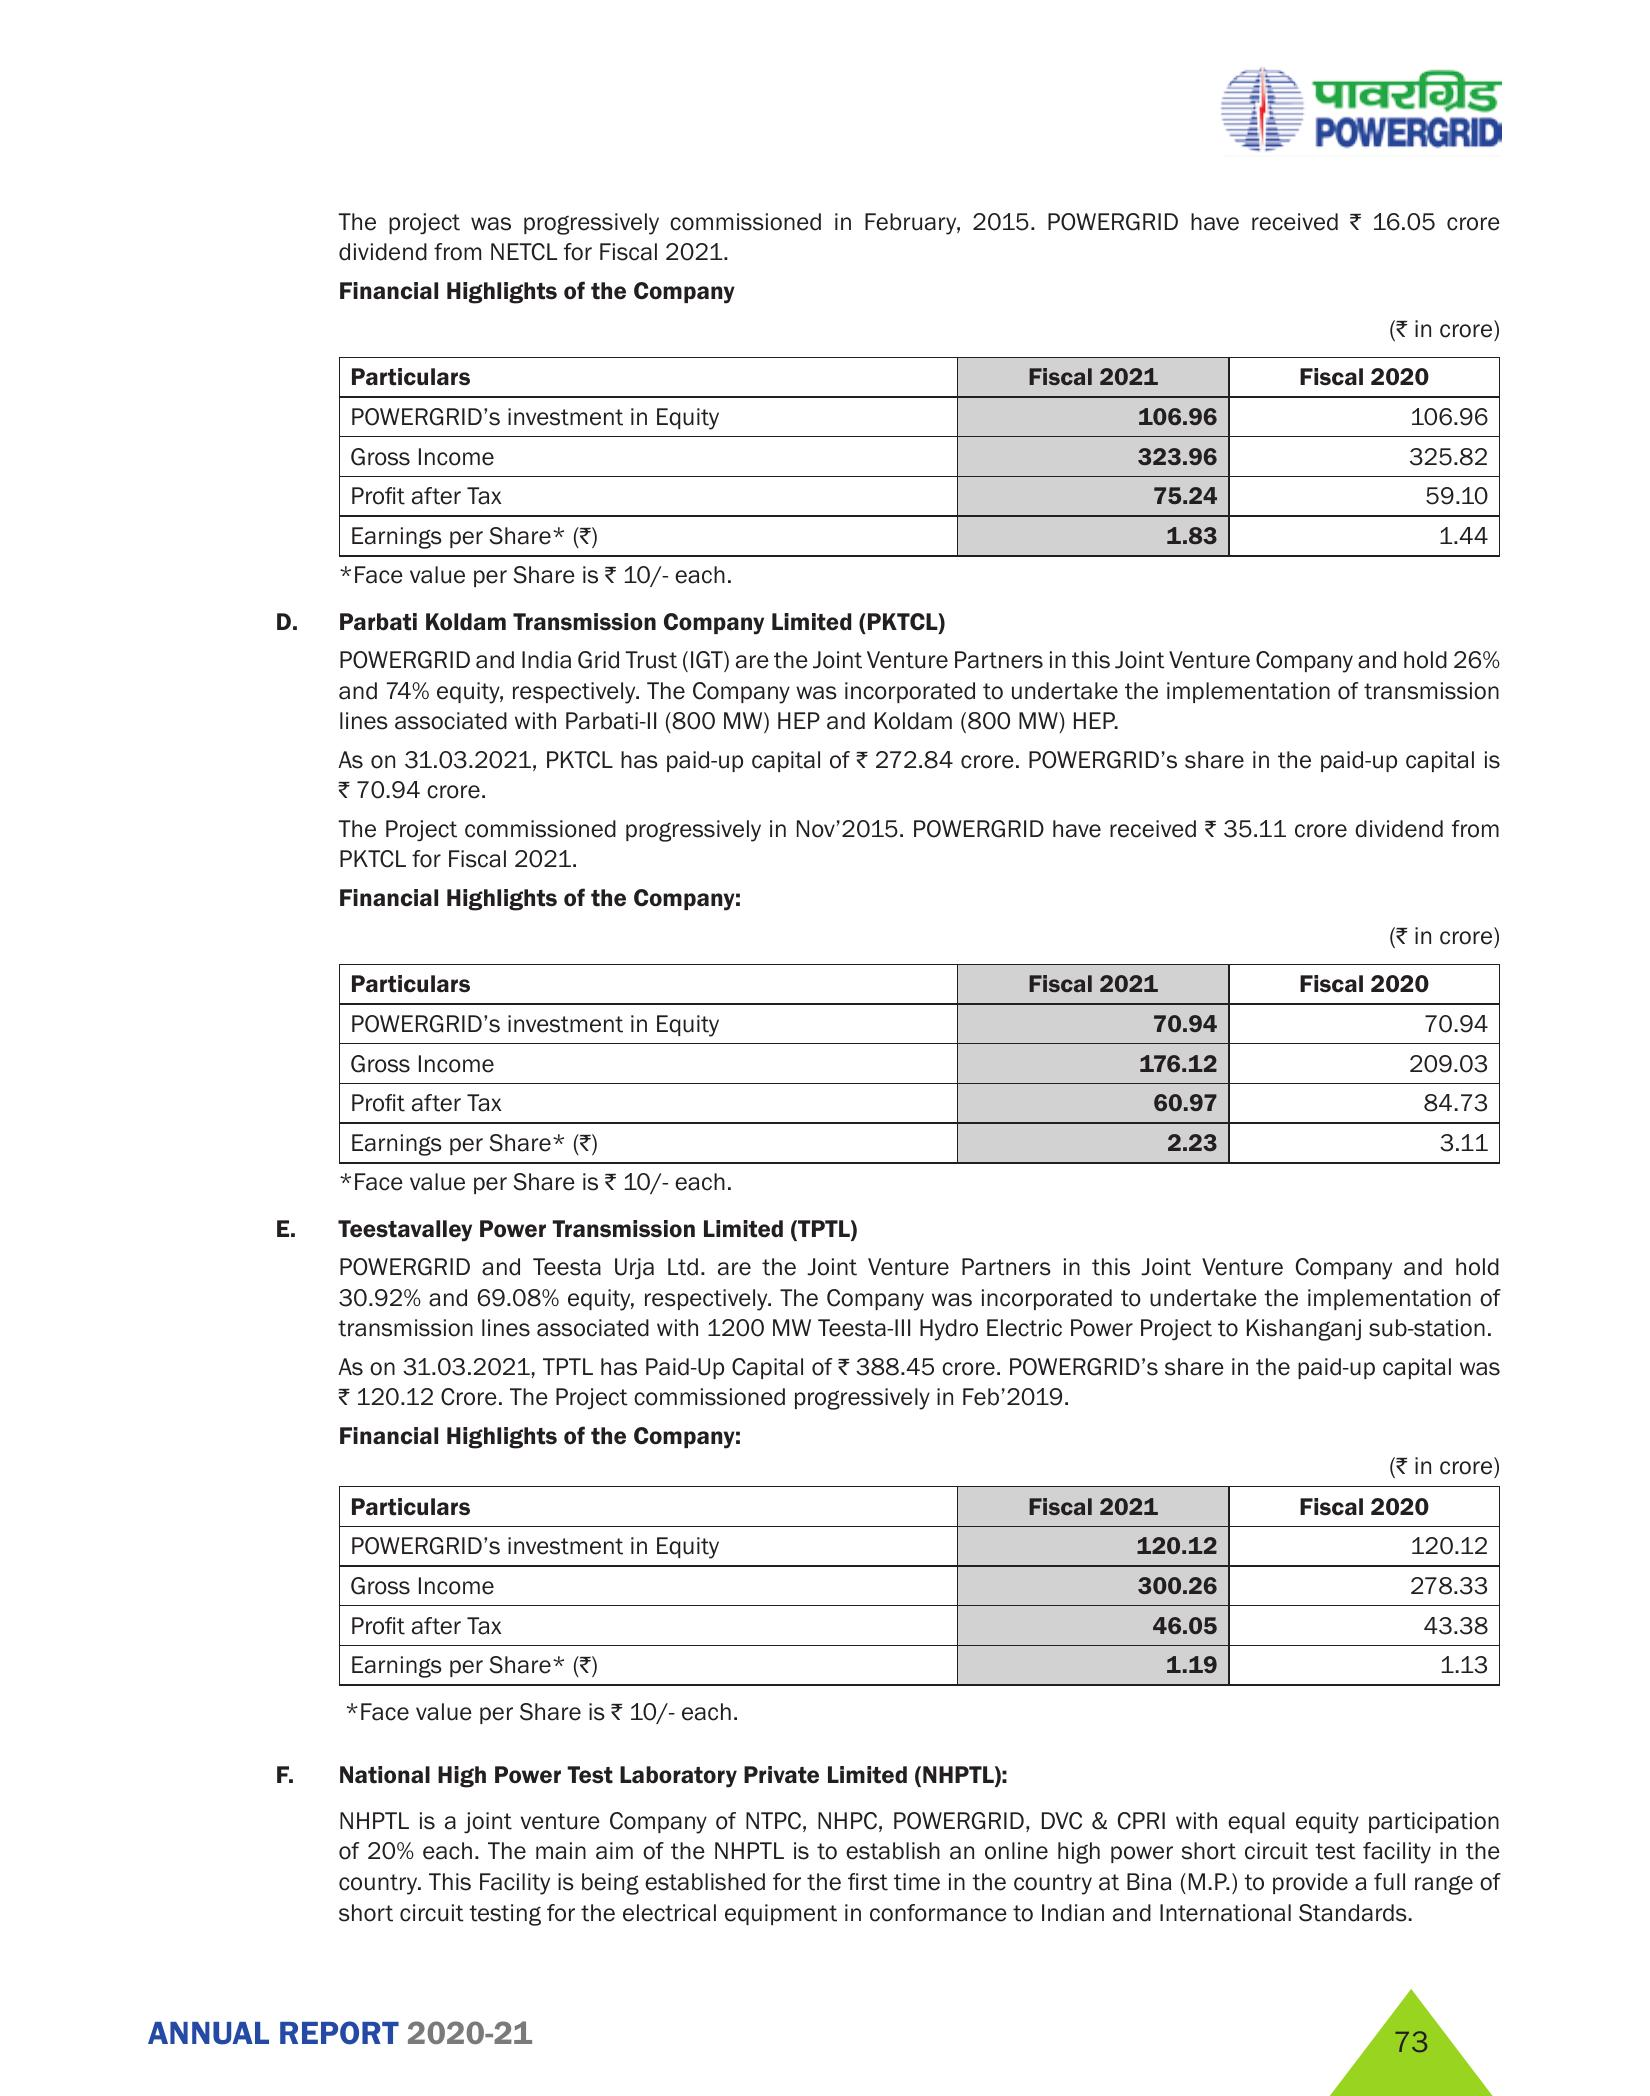Footer: (0, 1956, 1650, 2096)
Header: (0, 0, 1650, 175)
Table: (248, 306, 1495, 589), (236, 1446, 1548, 1688), (219, 960, 1528, 1164)
